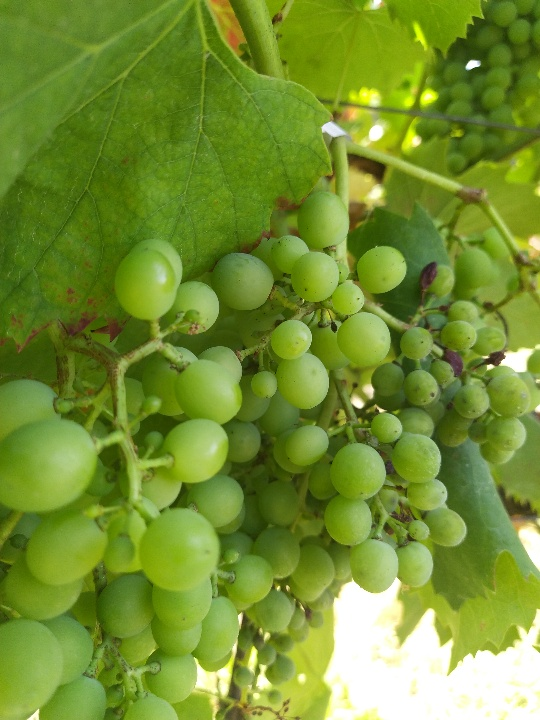grape: (2, 244, 269, 717), (276, 196, 534, 592)
